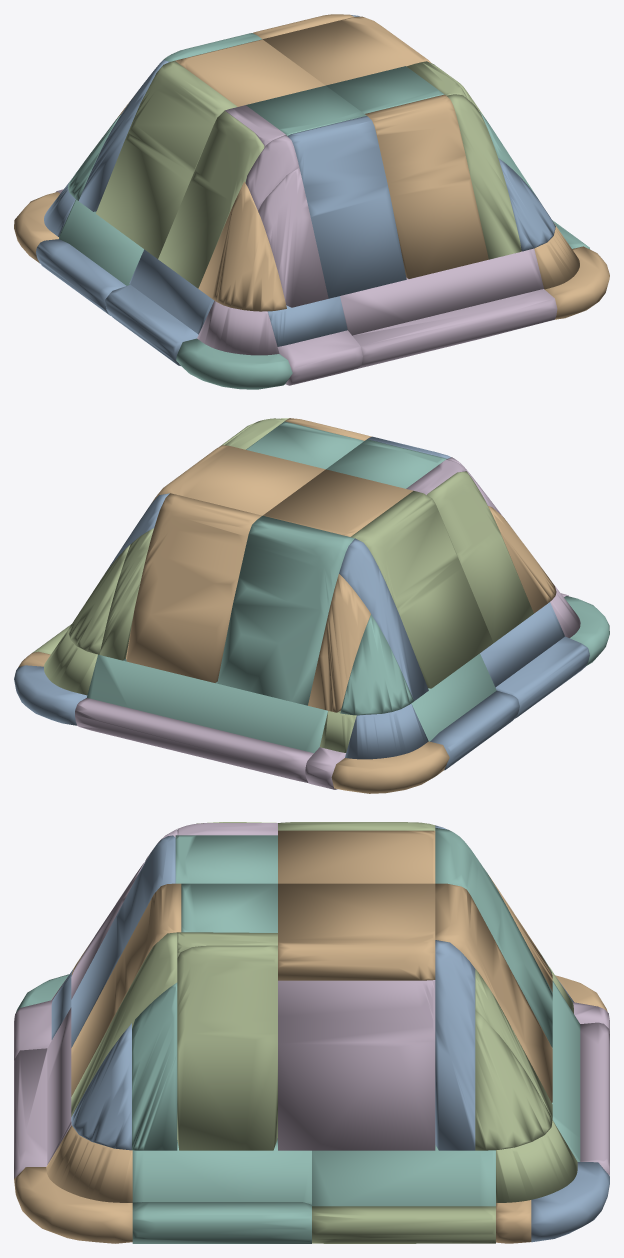
3 renders of one model, top to bottom at view 1: azimuth 30°, elevation 25°; view 2: azimuth 150°, elevation 25°; view 3: azimuth 270°, elevation 25°, orthographic. The views are drawn at different scales.
Bounding box in the file's own units: 1.52 × 0.6742 × 1.52.
